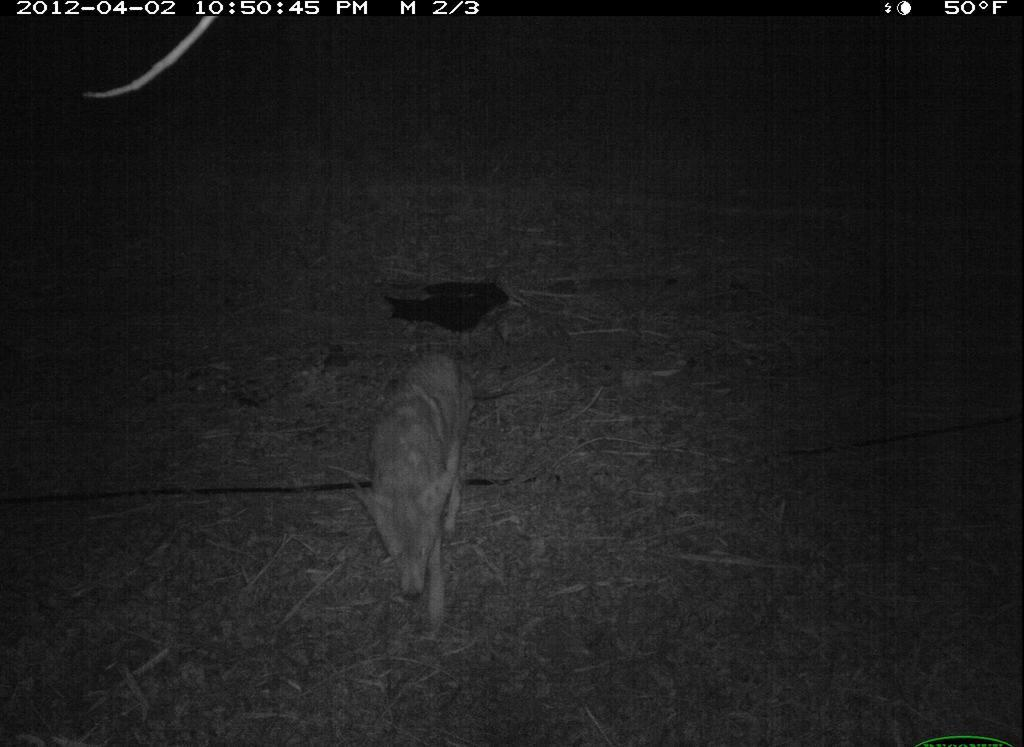coyote: (327, 312, 498, 644)
